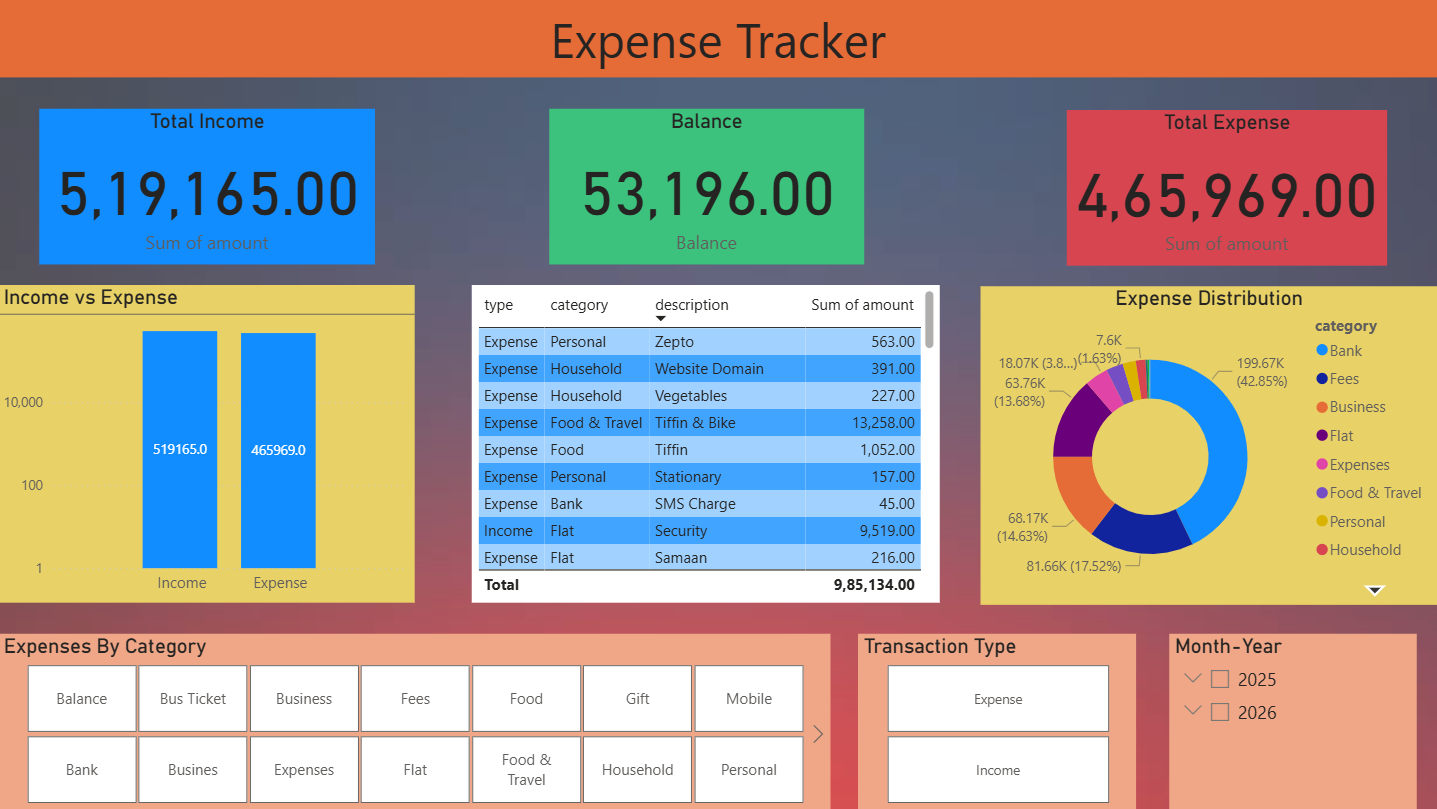

The dashboard page shown, as its layout file describes it:
{"tool":"powerbi","page":{"name":"Page 1","canvas":[1280,720],"ordinal":0},"visuals":[{"type":"card","title":"Total Income","fields":{"Values":["Sum(Sheet1.amount)"]},"box":[31.2,98.3,298.4,139],"z":0},{"type":"card","title":"Total Expense","fields":{"Values":["Sum(Sheet1.amount)"]},"box":[962.4,98.3,285.2,139],"z":1000},{"type":"card","title":"Balance","fields":{"Values":["Sheet1.Balance"]},"box":[518.6,98.6,280,138.6],"z":2000},{"type":"clusteredColumnChart","title":"Income vs Expense","fields":{"Category":["Sheet1.type"],"Y":["Sum(Sheet1.amount)"]},"box":[0,255.3,375.1,282.8],"z":3000},{"type":"donutChart","title":"Expense Distribution","fields":{"Category":["Sheet1.category"],"Y":["Sum(Sheet1.amount)"]},"box":[873.7,254.1,406.3,282.8],"z":4000},{"type":"tableEx","fields":{"Values":["Sheet1.type","Sheet1.category","Sheet1.description","Sum(Sheet1.amount)"]},"box":[429.1,255.3,414.7,281.6],"z":5000},{"type":"slicer","title":"Transaction Type","fields":{"Values":["Sheet1.type"]},"box":[750,563.8,248.8,156.2],"z":6000},{"type":"slicer","title":"Expenses By Category","fields":{"Values":["Sheet1.category"]},"box":[0,563.3,658,157],"z":7000},{"type":"textbox","box":[0,0,1280,68.6],"z":8000},{"type":"slicer","title":"Month-Year","fields":{"Values":["Sheet1.Year","Sheet1.Month"]},"box":[1058.3,563.3,221.7,157],"z":9000}]}

Visuals, with their boxes in screenshot pixels (x1, y1, x2, y2), scaled from the page's 1280x720 canvas onto the 1437x809 screenshot:
"Total Income" card: (35,110,370,267)
"Total Expense" card: (1080,110,1401,267)
"Balance" card: (582,111,897,267)
"Income vs Expense" clusteredColumnChart: (0,287,421,605)
"Expense Distribution" donutChart: (981,286,1436,603)
tableEx - Sheet1.type x Sheet1.category: (482,287,947,603)
"Transaction Type" slicer: (842,633,1121,808)
"Expenses By Category" slicer: (0,633,739,808)
textbox: (0,0,1436,77)
"Month-Year" slicer: (1188,633,1436,808)
